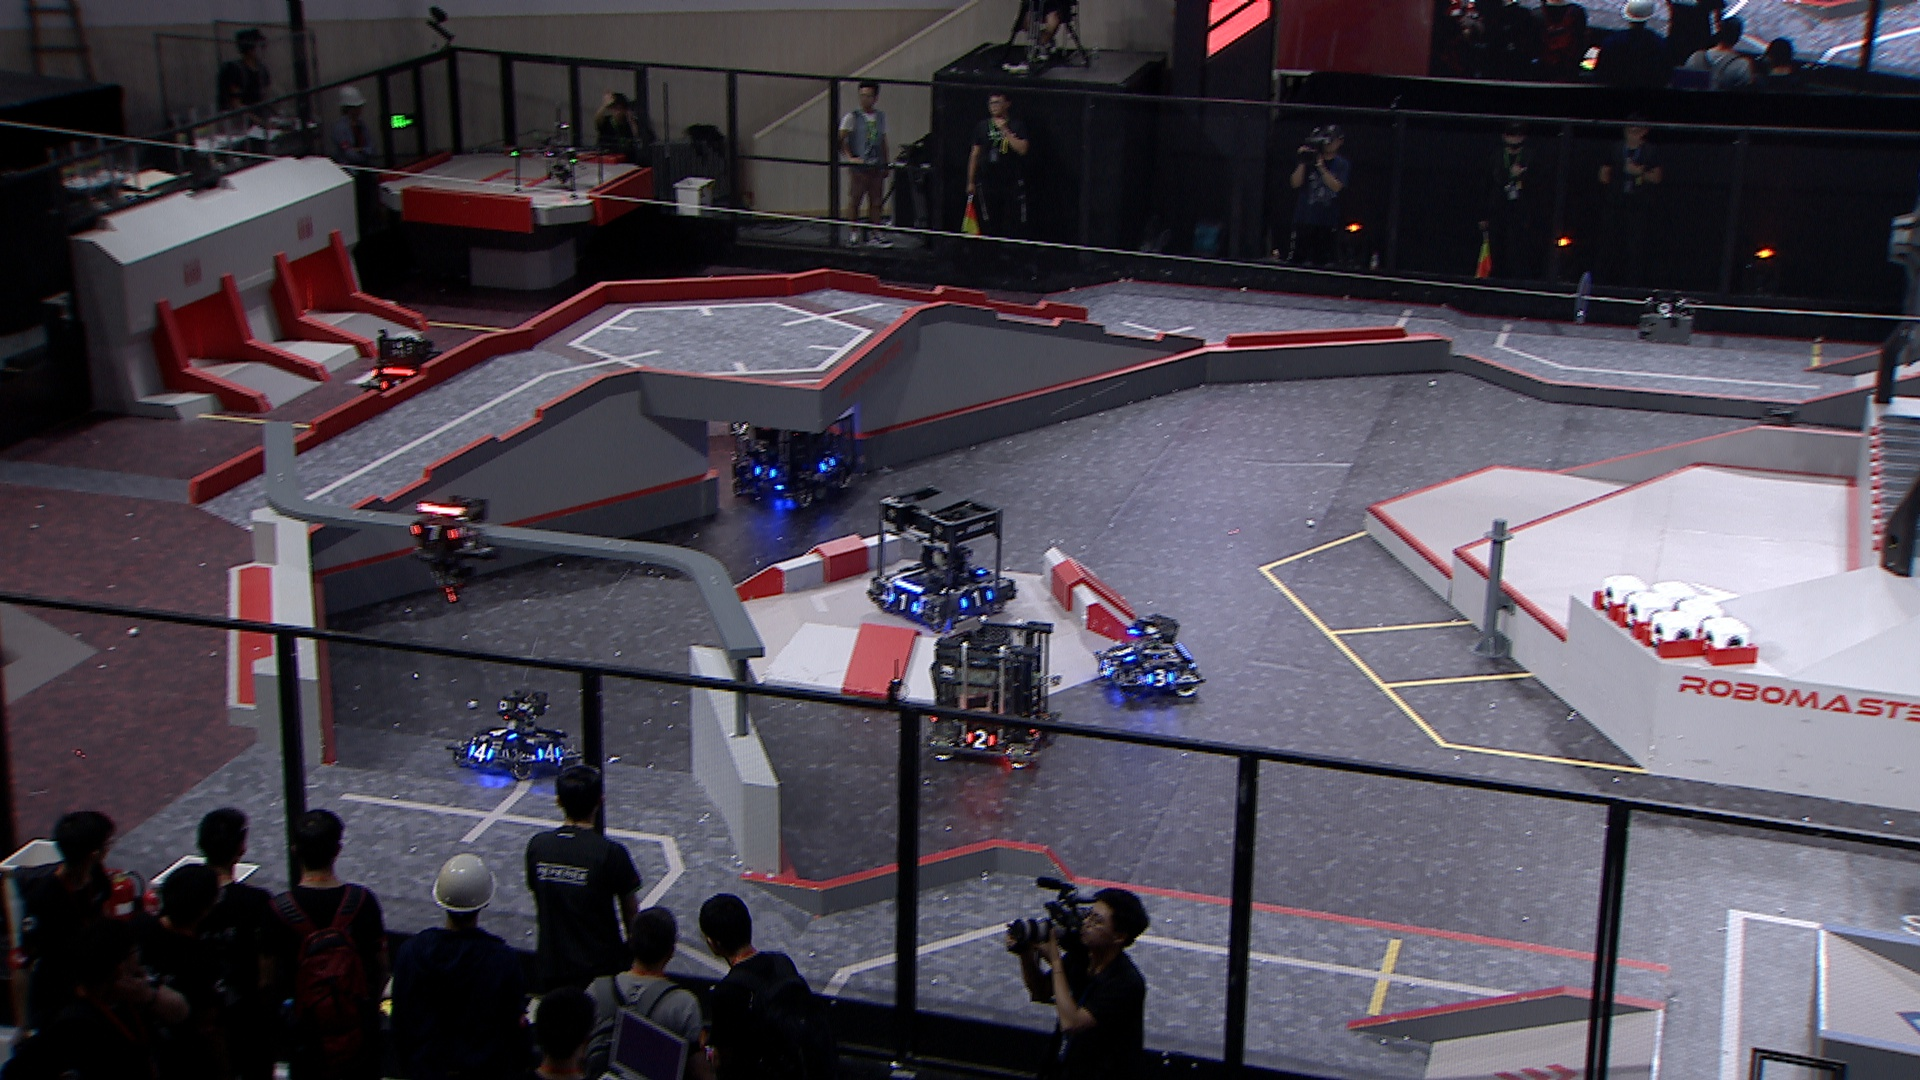armor: (409, 520, 456, 541), (887, 589, 916, 617), (959, 585, 993, 605), (964, 728, 992, 750), (485, 723, 516, 742), (465, 742, 493, 764), (1145, 670, 1174, 687), (538, 742, 562, 761), (378, 375, 404, 392), (752, 463, 775, 480), (1112, 641, 1131, 661), (1097, 659, 1114, 680), (820, 454, 837, 472)
car: (865, 481, 1015, 636), (920, 613, 1063, 771), (723, 386, 868, 513), (447, 692, 578, 779), (1088, 609, 1204, 704), (359, 330, 448, 418)
watcher: (406, 493, 496, 609)
